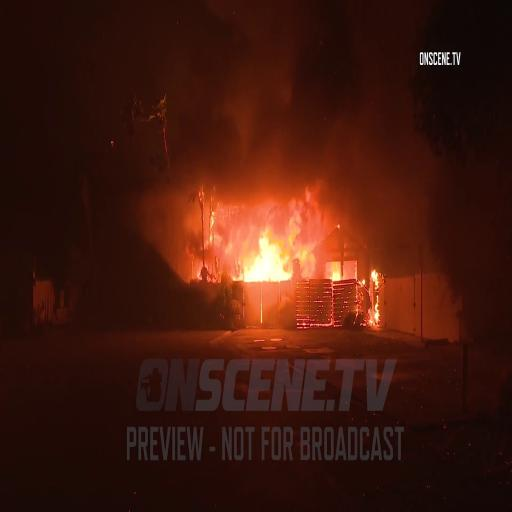fire: (208, 186, 320, 284)
